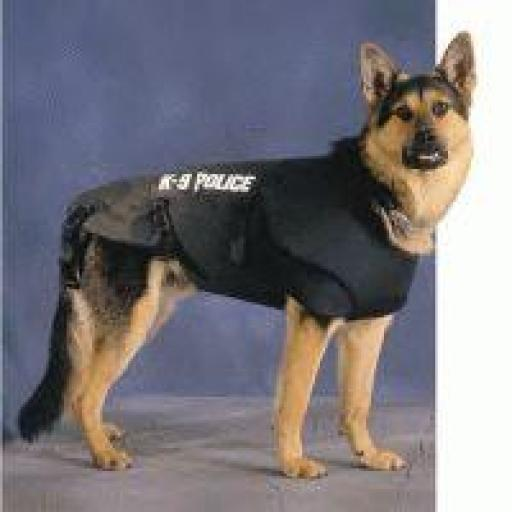dog_face: (360, 36, 480, 184)
